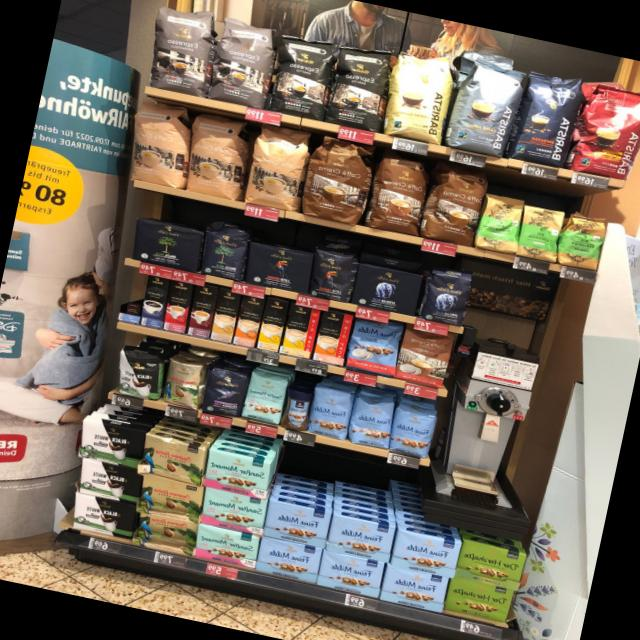AB Bohne: (416, 263, 477, 328)
AB Gemahlen: (350, 262, 423, 317)
Athiopien Bohne: (555, 209, 609, 272)
Athiopien Gemahlen: (515, 201, 569, 264), (473, 191, 524, 257)
BM Bohne: (197, 227, 250, 282)
BM Gemahlen: (130, 219, 203, 272)
BW Gemahlen: (72, 491, 137, 540), (77, 458, 143, 506), (78, 420, 143, 468)
Barista CB: (378, 39, 461, 145)
Barista CC: (442, 52, 529, 160)
Barista Espresso: (504, 64, 588, 170)
Barista Kolumbien: (567, 78, 640, 183)
C Fino Bohne: (199, 365, 250, 419)
CC Mild: (184, 109, 255, 203), (242, 121, 314, 213), (127, 97, 195, 190)
CC Vollmundig: (394, 323, 455, 389)
CC Vollmundig 36 Pads: (298, 133, 383, 226), (363, 147, 436, 239), (421, 158, 491, 249)
Colombia BB Bohne: (160, 356, 206, 411)
Colombia BB Gemahlen: (138, 433, 206, 485), (137, 475, 203, 524), (132, 512, 197, 556)
Espresso Aromatisch: (144, 1, 217, 98), (206, 15, 280, 110)
Espresso Kraftig: (322, 37, 395, 133), (264, 30, 334, 121)
FM 36 Pads: (344, 315, 404, 377)
FM Bohne: (344, 389, 397, 450), (387, 399, 439, 460), (306, 384, 354, 440)
FM Gemahlen: (377, 562, 449, 613), (324, 513, 395, 563), (389, 529, 460, 578), (262, 499, 330, 549), (316, 549, 383, 598), (254, 535, 322, 583)
FM Instant: (279, 383, 314, 432)
Herzhatfe Mundig: (454, 539, 526, 591), (443, 575, 513, 624)
LG Bohne: (304, 245, 358, 303)
LG Gemahlen: (241, 241, 314, 296)
SM Bohne: (241, 368, 290, 425)
SM Gemahlen: (198, 486, 266, 535), (204, 449, 269, 499), (192, 523, 260, 569)
Simo CCMild: (280, 303, 320, 359)
Simo CCMild bigpack: (256, 296, 288, 353)
Simo CCVollmundig: (311, 309, 355, 365)
Simo CCVollmundig bigpack: (232, 292, 265, 347)
Simo Decaff: (114, 343, 163, 402), (209, 287, 242, 343)
Simo Es Brazil: (162, 279, 193, 333)
Simo Es Caramel: (186, 282, 218, 338)
Simo Es Kraft: (139, 274, 172, 330)
